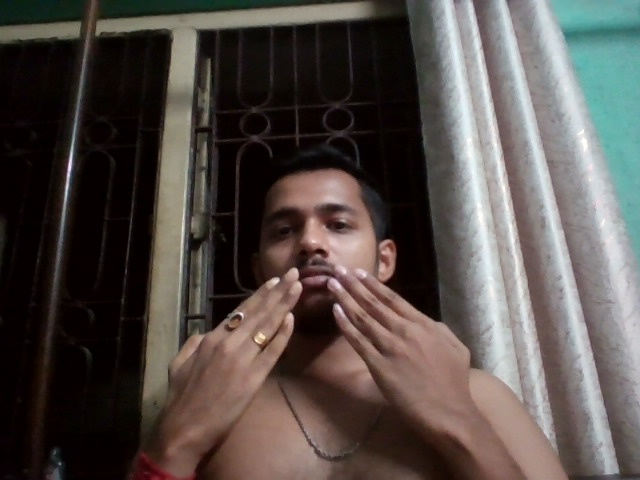Thankyou: (153, 218, 495, 436)
